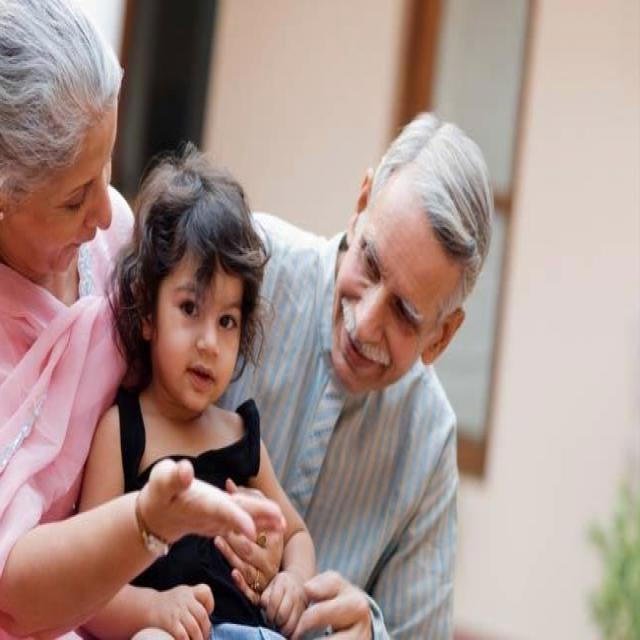child: (90, 149, 294, 640)
